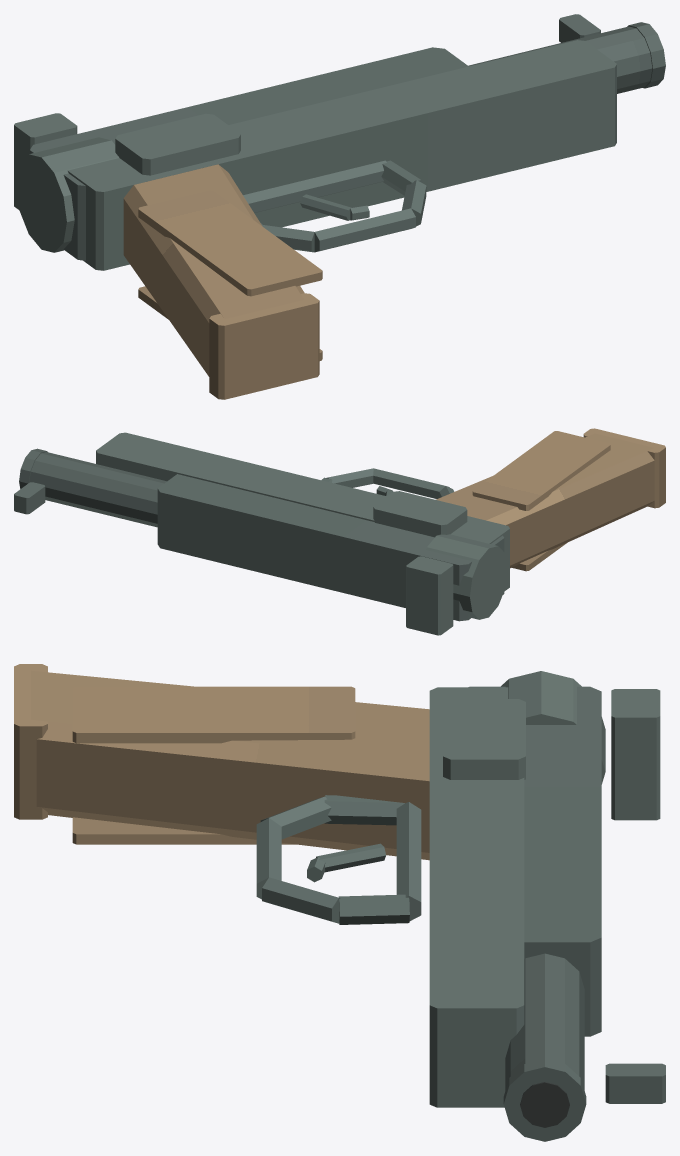
Rendered from weapon-nambu-14.glb.
3 views of the same model, one above another, from view 1: azimuth 30°, elevation 25°; view 2: azimuth 150°, elevation 25°; view 3: azimuth 270°, elevation 25° (orthographic). The views are drawn at different scales.
Parts seen in each view (by area): view 1: weapon-nambu-14/lower-frame, weapon-nambu-14/eight-sided-grip, weapon-nambu-14/rear-receiver, weapon-nambu-14/independent-grip-panels-left, weapon-nambu-14/eight-sided-grip-heel, weapon-nambu-14/round-bolt-tail, weapon-nambu-14/grip-frame-shoulder, weapon-nambu-14/hollow-trigger-guard-1, weapon-nambu-14/exposed-round-barrel, weapon-nambu-14/hollow-trigger-guard-4, weapon-nambu-14/rear-sight, weapon-nambu-14/exposed-round-barrel-end-rim (+5 smaller); view 2: weapon-nambu-14/rear-receiver, weapon-nambu-14/eight-sided-grip, weapon-nambu-14/lower-frame, weapon-nambu-14/exposed-round-barrel, weapon-nambu-14/independent-grip-panels-left, weapon-nambu-14/round-bolt-tail, weapon-nambu-14/rear-sight, weapon-nambu-14/grip-frame-shoulder, weapon-nambu-14/eight-sided-grip-heel, weapon-nambu-14/hollow-trigger-guard-4, weapon-nambu-14/front-sight, weapon-nambu-14/hollow-trigger-guard-3 (+2 smaller); view 3: weapon-nambu-14/eight-sided-grip, weapon-nambu-14/lower-frame, weapon-nambu-14/rear-receiver, weapon-nambu-14/independent-grip-panels-left, weapon-nambu-14/exposed-round-barrel, weapon-nambu-14/grip-frame-shoulder, weapon-nambu-14/rear-sight, weapon-nambu-14/exposed-round-barrel-end-rim, weapon-nambu-14/eight-sided-grip-heel, weapon-nambu-14/round-bolt-tail, weapon-nambu-14/independent-grip-panels-right, weapon-nambu-14/hollow-trigger-guard-1 (+8 smaller).
Boxes of the visible parts, x1,y1,x2,y2 form: weapon-nambu-14/lower-frame: [68, 40, 616, 270]; weapon-nambu-14/eight-sided-grip: [123, 164, 304, 376]; weapon-nambu-14/rear-receiver: [30, 47, 468, 260]; weapon-nambu-14/independent-grip-panels-left: [138, 190, 322, 296]; weapon-nambu-14/eight-sided-grip-heel: [209, 293, 319, 399]; weapon-nambu-14/round-bolt-tail: [16, 137, 119, 252]; weapon-nambu-14/grip-frame-shoulder: [115, 113, 240, 175]; weapon-nambu-14/hollow-trigger-guard-1: [243, 160, 386, 212]; weapon-nambu-14/exposed-round-barrel: [468, 26, 652, 93]; weapon-nambu-14/hollow-trigger-guard-4: [314, 208, 415, 252]; weapon-nambu-14/rear-sight: [14, 113, 77, 209]; weapon-nambu-14/exposed-round-barrel-end-rim: [627, 22, 665, 88]; weapon-nambu-14/rear-receiver: [157, 474, 504, 621]; weapon-nambu-14/eight-sided-grip: [436, 433, 654, 568]; weapon-nambu-14/lower-frame: [96, 432, 509, 591]; weapon-nambu-14/exposed-round-barrel: [29, 452, 166, 527]; weapon-nambu-14/independent-grip-panels-left: [472, 431, 610, 510]; weapon-nambu-14/round-bolt-tail: [426, 534, 507, 619]; weapon-nambu-14/rear-sight: [406, 556, 453, 635]; weapon-nambu-14/grip-frame-shoulder: [373, 491, 467, 537]; weapon-nambu-14/eight-sided-grip-heel: [583, 428, 665, 508]; weapon-nambu-14/hollow-trigger-guard-4: [373, 468, 449, 498]; weapon-nambu-14/front-sight: [14, 482, 45, 514]; weapon-nambu-14/hollow-trigger-guard-3: [326, 468, 373, 487]; weapon-nambu-14/eight-sided-grip: [31, 670, 429, 860]; weapon-nambu-14/lower-frame: [429, 687, 524, 1107]; weapon-nambu-14/rear-receiver: [468, 686, 601, 1036]; weapon-nambu-14/independent-grip-panels-left: [72, 686, 355, 743]; weapon-nambu-14/exposed-round-barrel: [505, 953, 584, 1090]; weapon-nambu-14/grip-frame-shoulder: [443, 699, 525, 779]; weapon-nambu-14/rear-sight: [611, 689, 660, 820]; weapon-nambu-14/exposed-round-barrel-end-rim: [503, 1059, 586, 1141]; weapon-nambu-14/eight-sided-grip-heel: [14, 664, 47, 819]; weapon-nambu-14/round-bolt-tail: [501, 671, 605, 784]; weapon-nambu-14/independent-grip-panels-right: [72, 817, 295, 844]; weapon-nambu-14/hollow-trigger-guard-1: [396, 802, 421, 920].
Bounding box in the file's own units: 0.247 × 0.041 × 0.1725.
Materials: 3 (3 with a texture image).
